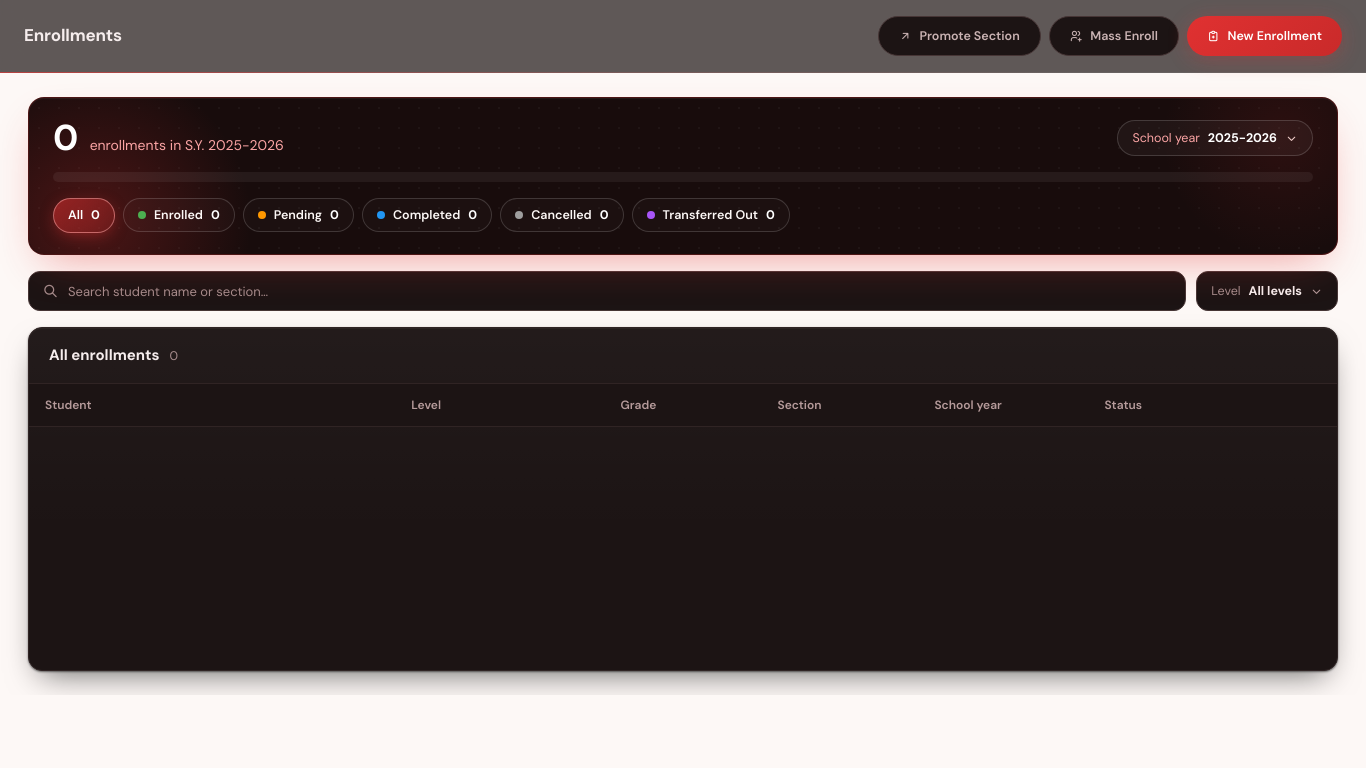
Scenario: Promote Section in dark › shows a refused preview and an empty one
Click the button "Promote Section" at (959, 36), box [878,16,1041,56]
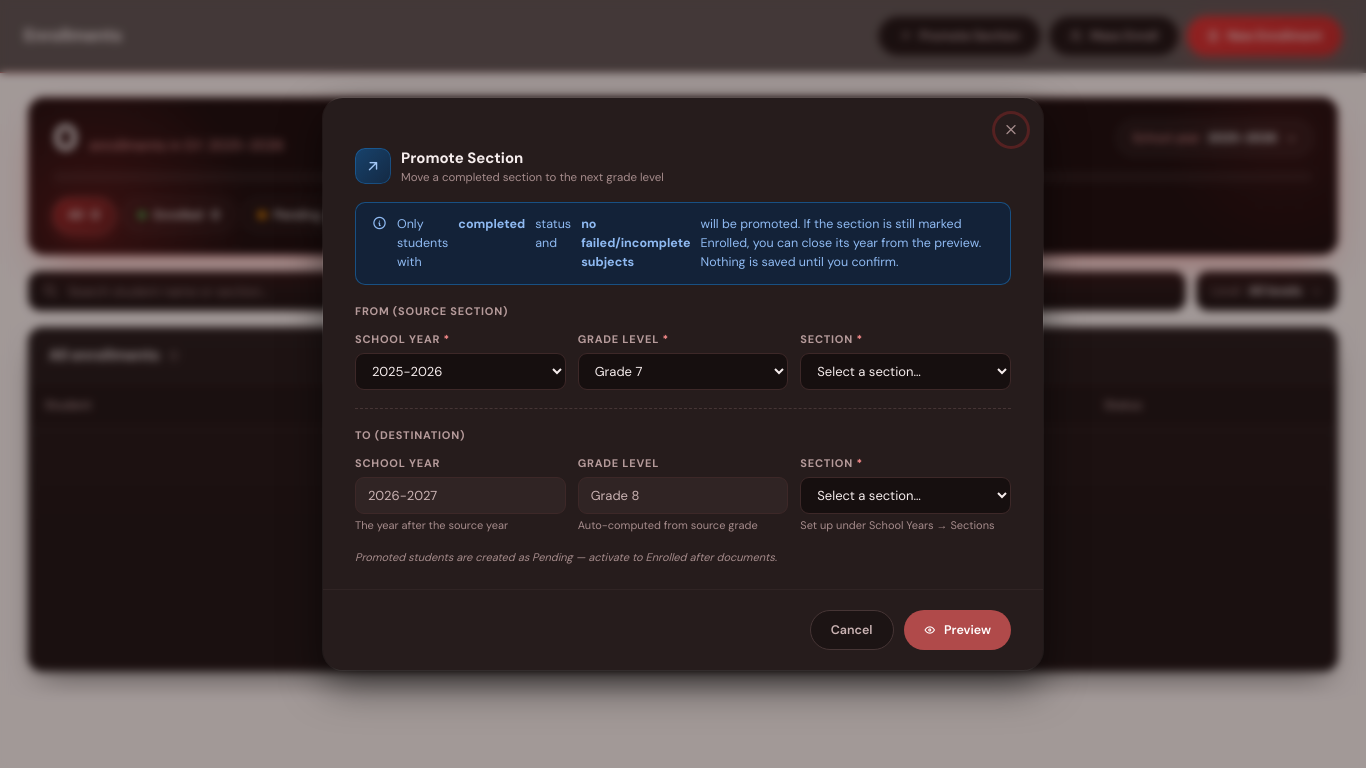
Result: the text "Nothing is saved until you confirm" is shown at [700,216,981,270]
Select "2025-2026" in the 1st dropdown at (460, 371), box [355,352,566,390]
Select "Grade 4" in the 2nd dropdown at (683, 371), box [578,352,788,390]
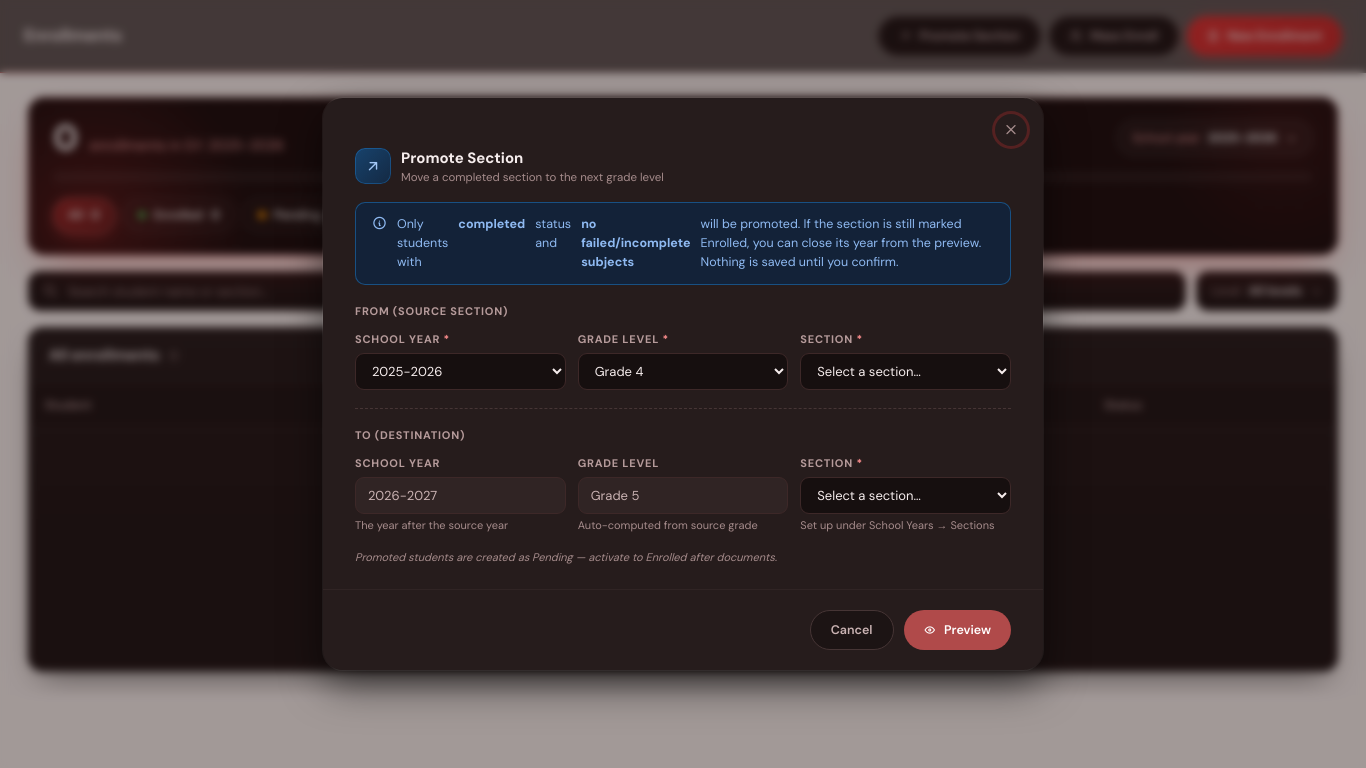
Select "Rizal" in the dropdown named "Source section" at (906, 371), box [800,352,1011,390]
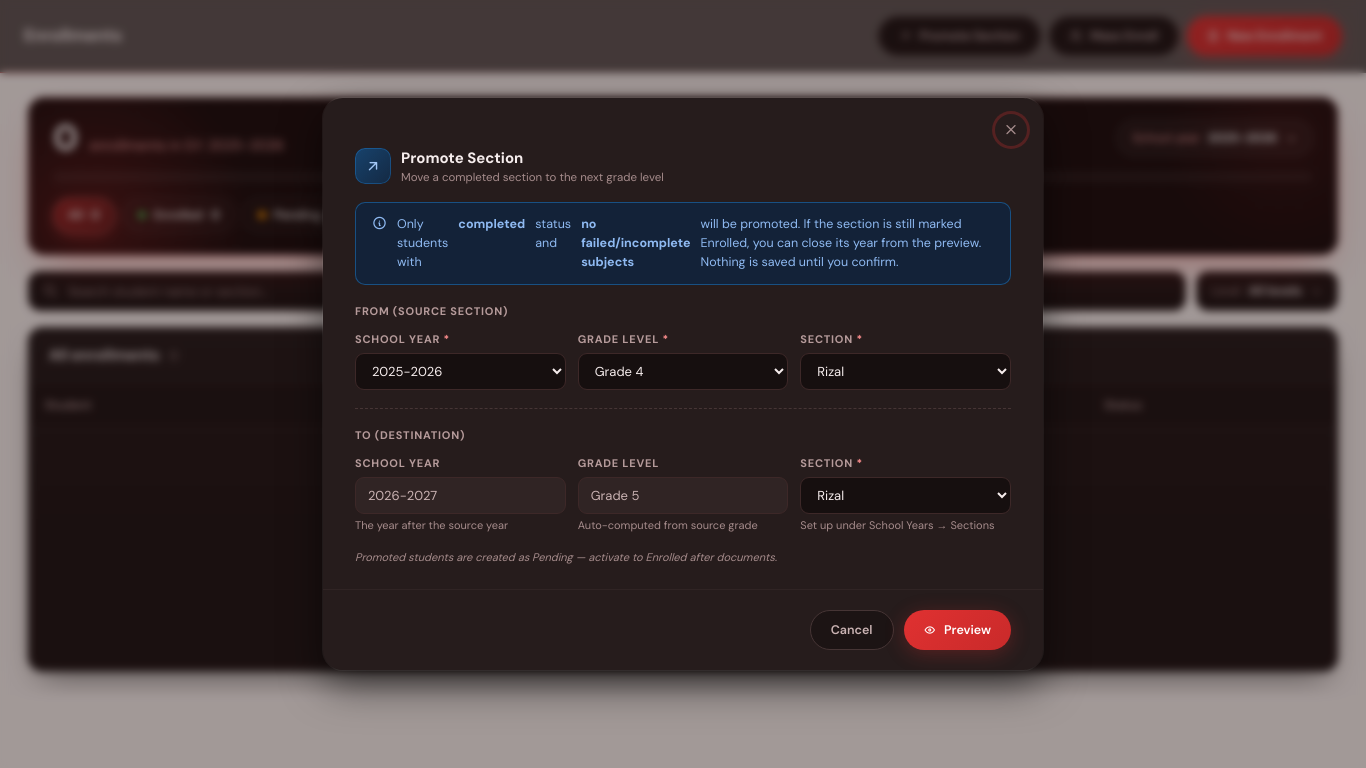
Result: the field named "Destination school year" holds "2026-2027" at [355,476,566,514]
Result: the dropdown named "Destination section" shows "Rizal" at [800,476,1011,514]
Click the button "Preview" at (957, 630), box [904,610,1011,650]
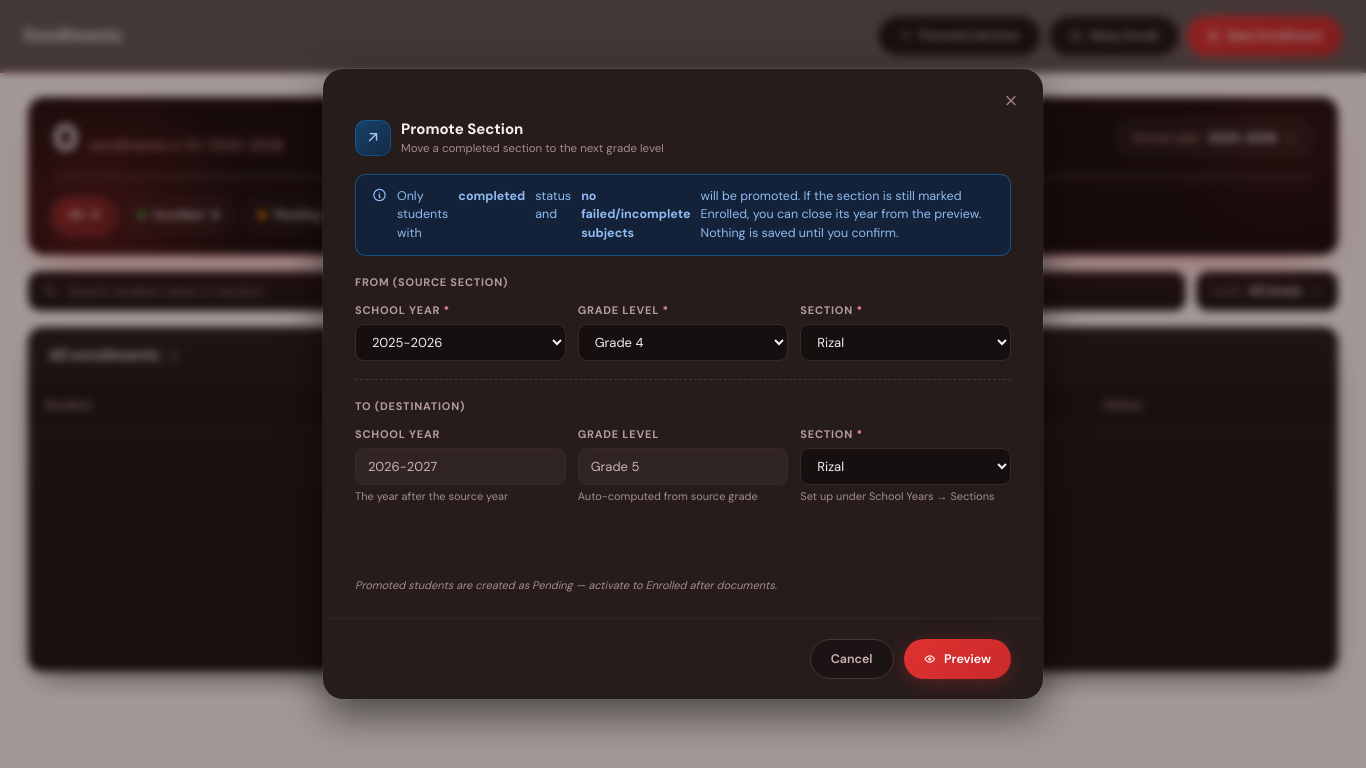
Click the button "Preview" at (957, 659), box [904,639,1011,679]
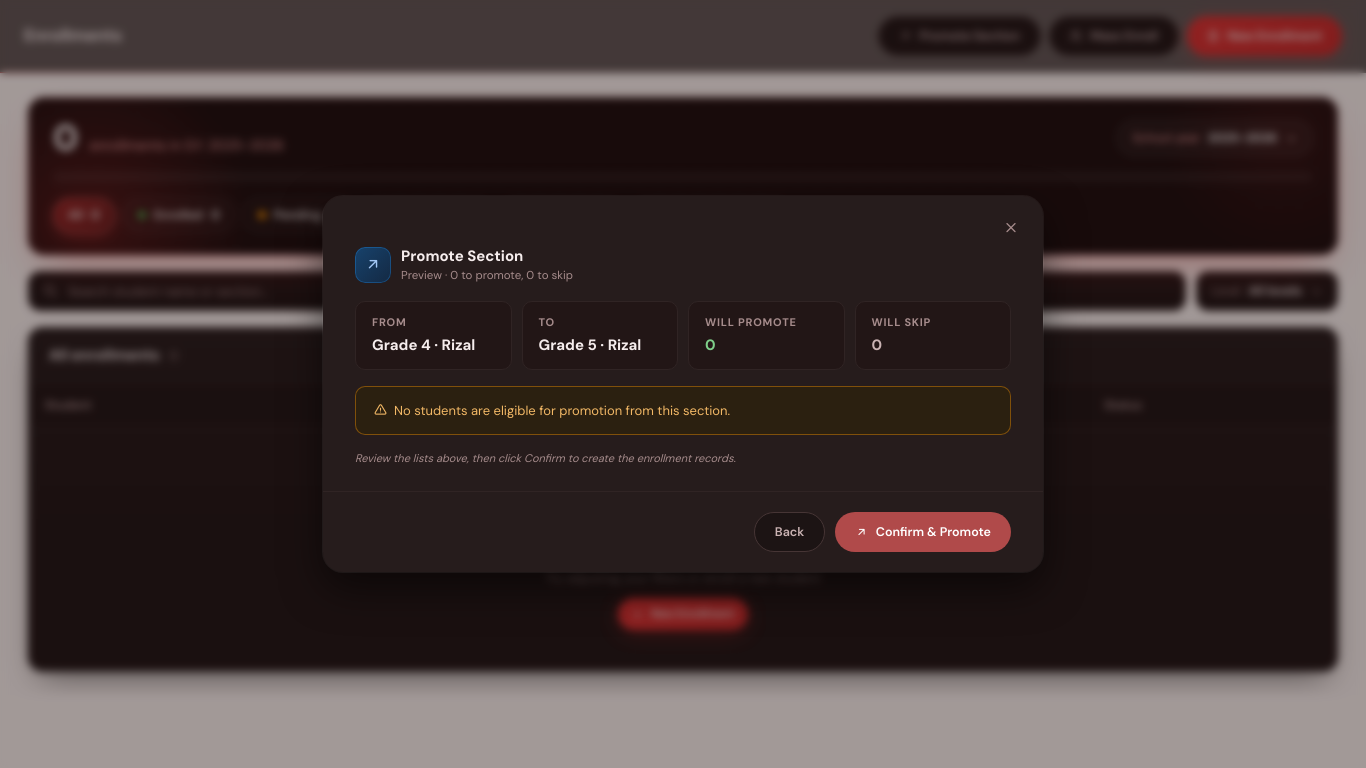
Result: the text "No students are eligible for promotion from this section." is shown at [355,386,1011,435]
